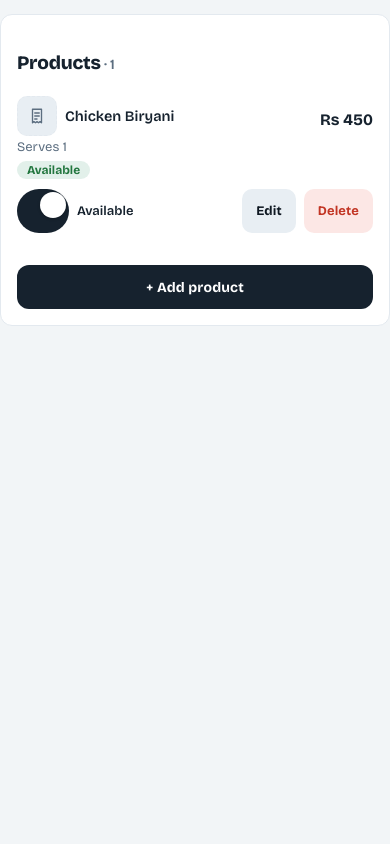
Test: OwnerProducts › renders a thumbnail placeholder, never an image-URL input
expect the text "Chicken Biryani" is shown: met, box [65,108,174,124]
# The add form offers a real upload affordance, not a URL field.
Click the button "+ Add product" at [195, 287], box [17,265,373,309]
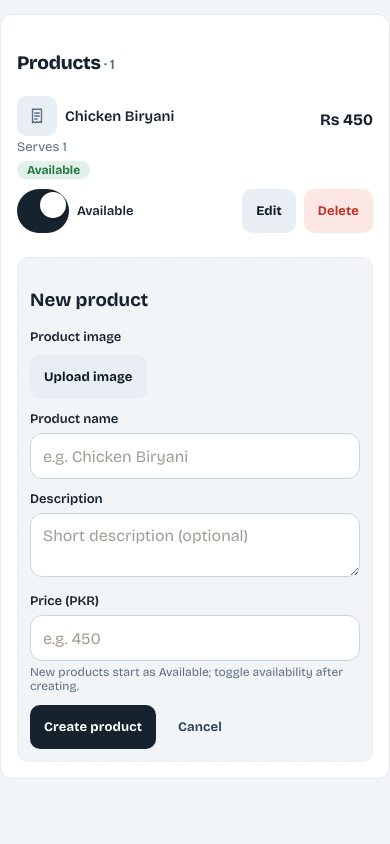
expect the button "Upload image" is shown: met, box [30,355,146,399]
